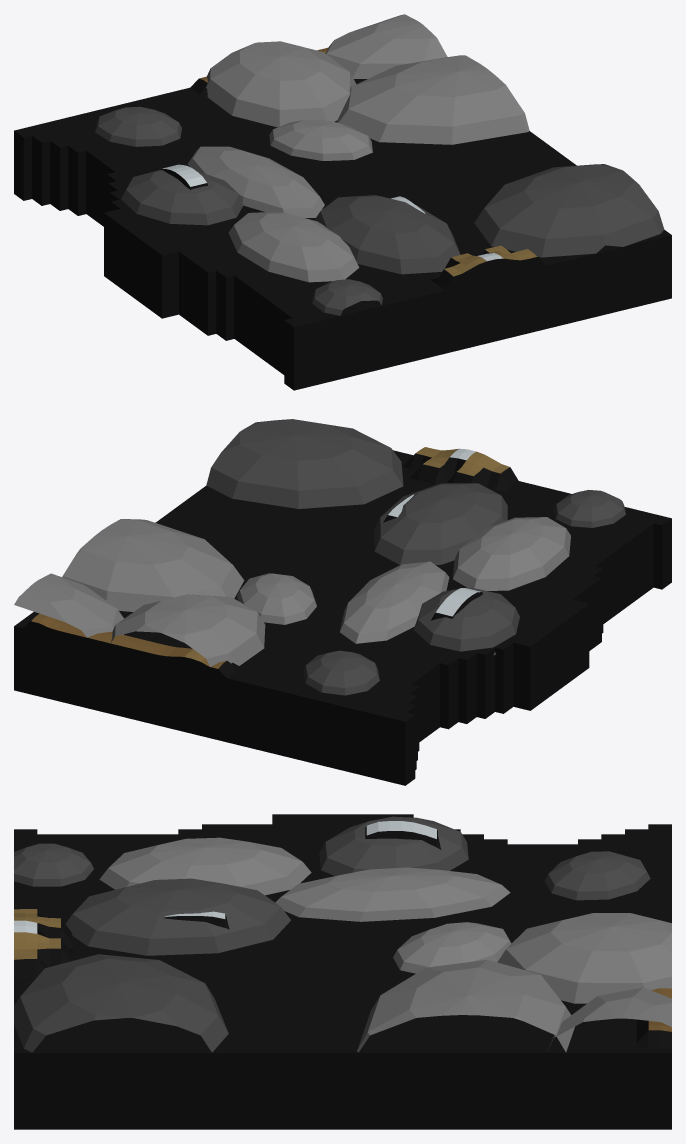
3 views of the same model, one above another, from view 1: azimuth 30°, elevation 25°; view 2: azimuth 150°, elevation 25°; view 3: azimuth 270°, elevation 25° (orthographic). The views are drawn at different scales.
Visible parts, largest first — view 1: shapesz-t195; view 2: shapesz-t195; view 3: shapesz-t195.
Boxes of the visible parts, x1=… form: shapesz-t195: x1=14, y1=14, x2=671, y2=390; shapesz-t195: x1=14, y1=419, x2=671, y2=785; shapesz-t195: x1=14, y1=814, x2=671, y2=1129.
Bounding box in the file's own units: 2 × 0.458 × 2.33.
